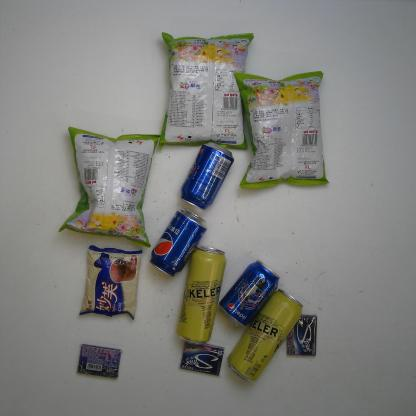Alcohol: (226, 288, 304, 384), (175, 245, 227, 346)
Dessert: (79, 244, 142, 320)
Drink: (218, 258, 281, 328), (149, 207, 209, 278), (179, 140, 237, 212)
Gum: (179, 340, 225, 376), (77, 343, 121, 379), (286, 314, 316, 358)
Puffed Food: (58, 126, 162, 250), (157, 30, 255, 153), (232, 71, 330, 189)
